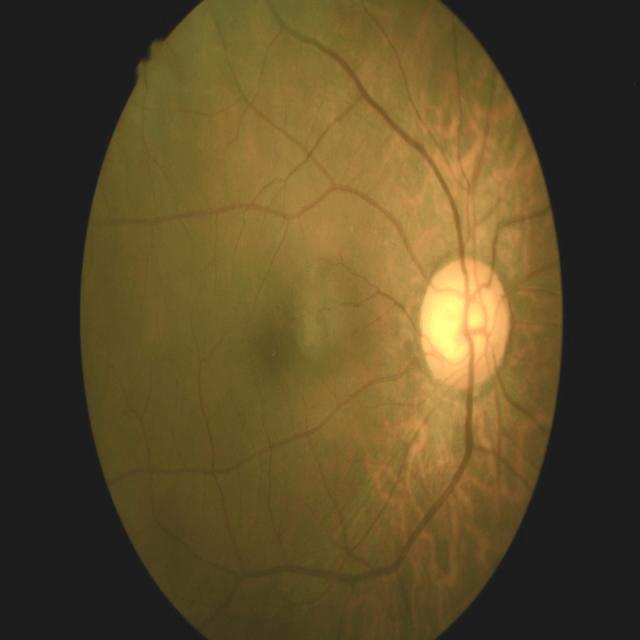cup: (435, 283, 494, 364)
disk: (420, 258, 512, 392)
